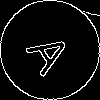A: (25, 25, 82, 78)
